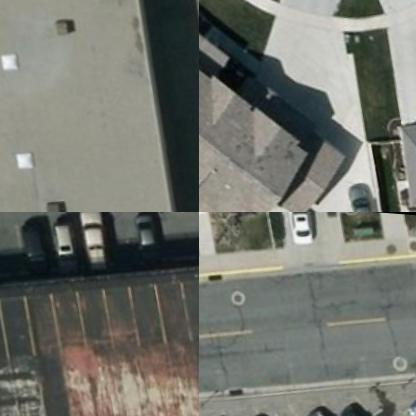car: (76, 212, 117, 271), (17, 214, 54, 274), (131, 212, 170, 260), (56, 212, 84, 270), (348, 173, 382, 211), (341, 391, 393, 415), (287, 212, 325, 243), (303, 395, 350, 415), (245, 402, 295, 415)
